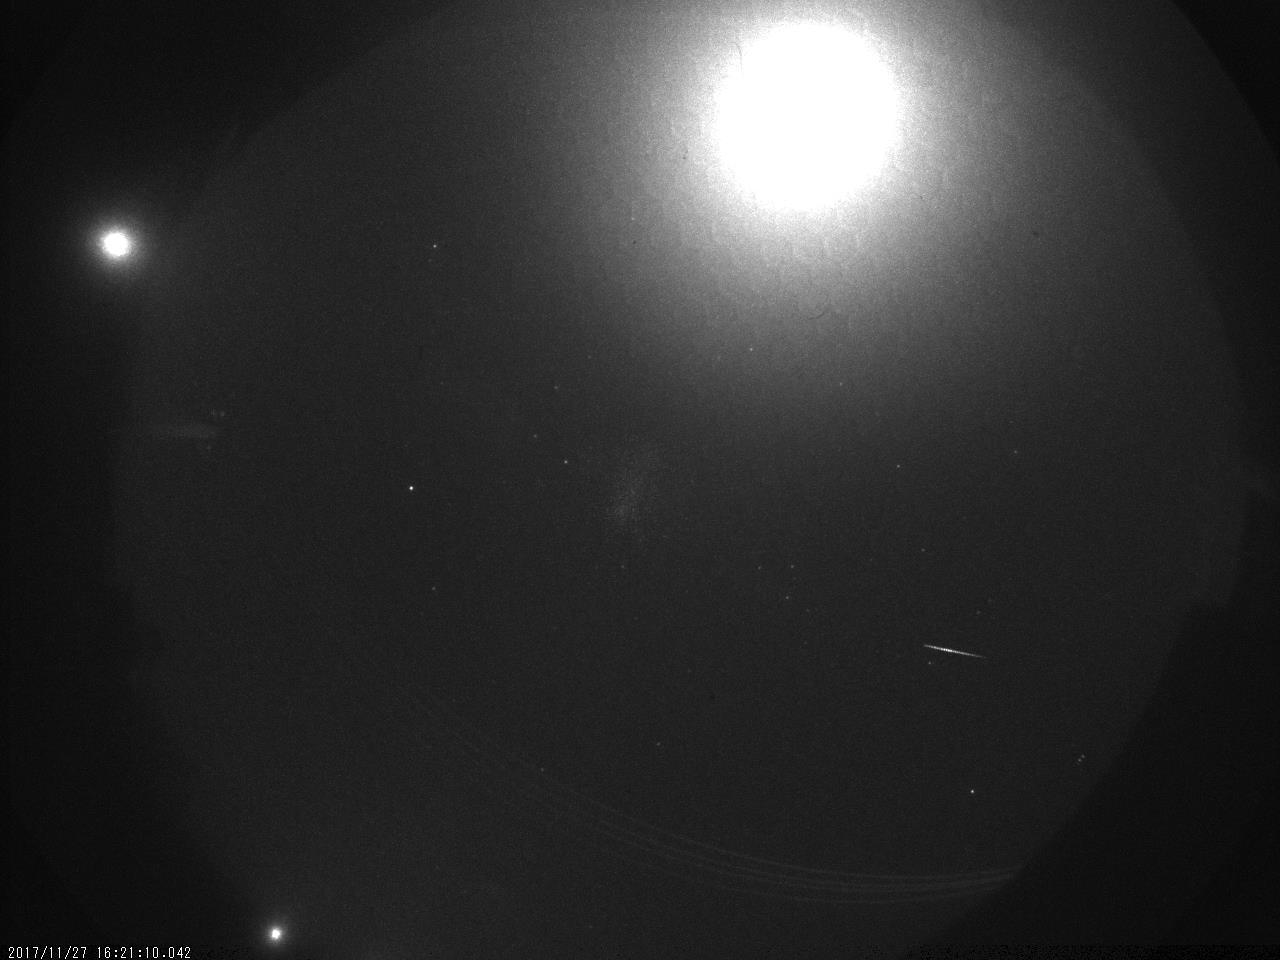Meteor: (921, 640, 987, 662)
